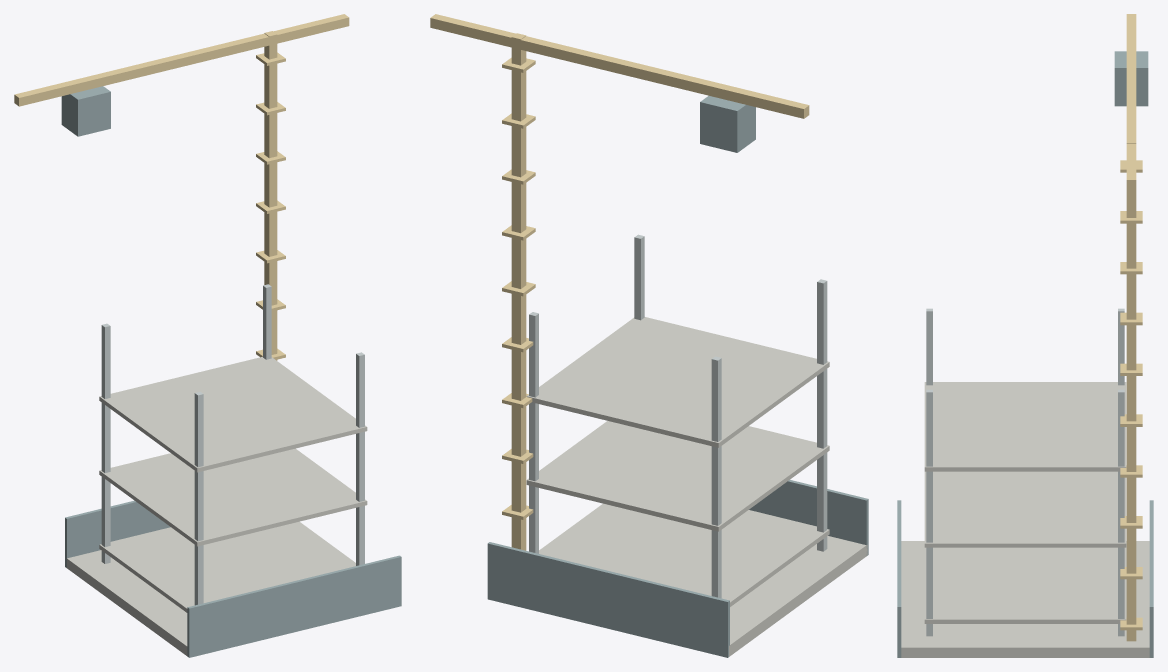
File: remaster_site_1_2.glb
The picture shows the model from 3 angles, left to right: view 1: azimuth 30°, elevation 25°; view 2: azimuth 150°, elevation 25°; view 3: azimuth 270°, elevation 25°; orthographic projection. The views are drawn at different scales.
Parts seen in each view (by area): view 1: remaster_site_1_2 stone, remaster_site_1_2 roof, remaster_site_1_2 gold, remaster_site_1_2 metal; view 2: remaster_site_1_2 stone, remaster_site_1_2 roof, remaster_site_1_2 gold, remaster_site_1_2 metal; view 3: remaster_site_1_2 stone, remaster_site_1_2 gold, remaster_site_1_2 metal, remaster_site_1_2 roof.
Boxes of the visible parts, box(x1,y1,x2,y2) form: remaster_site_1_2 stone: box(67, 356, 367, 656); remaster_site_1_2 roof: box(61, 86, 401, 657); remaster_site_1_2 gold: box(14, 14, 349, 360); remaster_site_1_2 metal: box(101, 284, 364, 605); remaster_site_1_2 stone: box(526, 317, 867, 656); remaster_site_1_2 roof: box(487, 96, 868, 657); remaster_site_1_2 gold: box(430, 14, 809, 550); remaster_site_1_2 metal: box(529, 234, 827, 598); remaster_site_1_2 stone: box(901, 382, 1149, 657); remaster_site_1_2 gold: box(1120, 14, 1142, 641); remaster_site_1_2 metal: box(926, 308, 1124, 636); remaster_site_1_2 roof: box(897, 51, 1153, 657).
Size of the model in its own units: 14 by 20 by 9.14.
